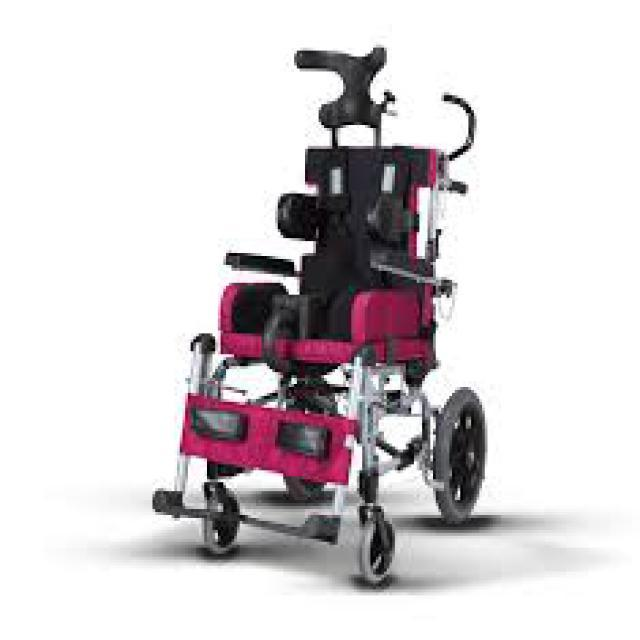wheelchair: (133, 32, 496, 604)
